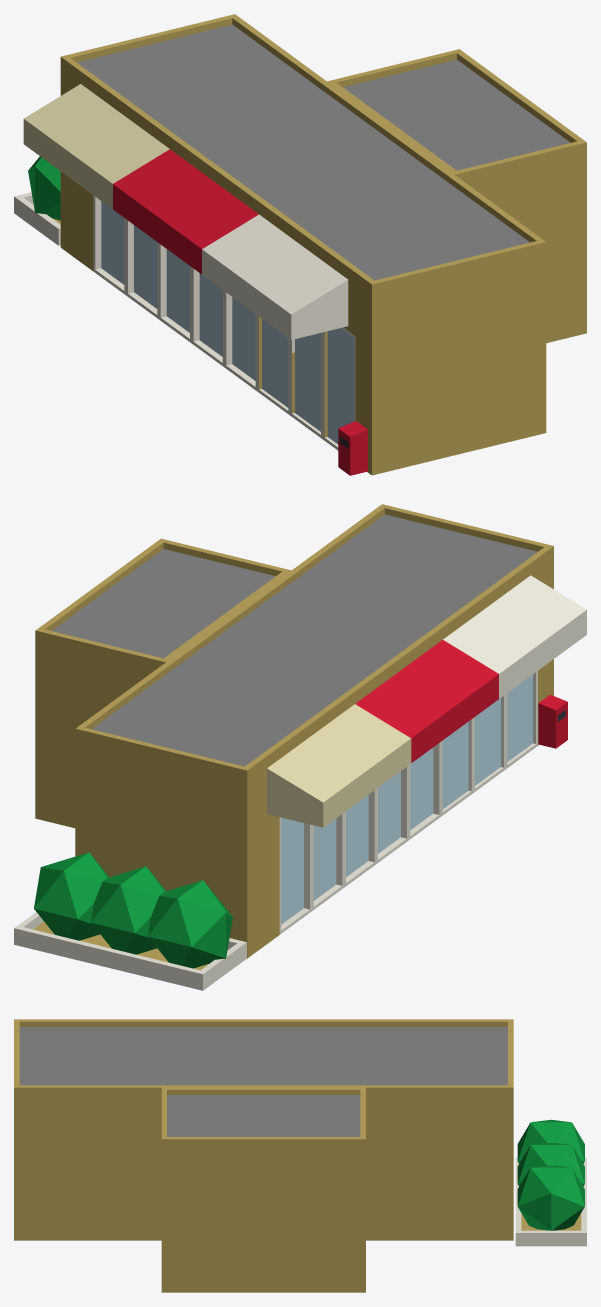
Rendered from 建筑物13.fbx.
3 renders of one model, top to bottom at view 1: azimuth 30°, elevation 25°; view 2: azimuth 150°, elevation 25°; view 3: azimuth 270°, elevation 25°, orthographic. The views are drawn at different scales.
Parts seen in each view (by area): view 1: 桶4_1; view 2: 桶4_1; view 3: 桶4_1.
Boxes of the visible parts, x1,y1,x2,y2 form: 桶4_1: [14, 14, 586, 475]; 桶4_1: [14, 504, 586, 990]; 桶4_1: [14, 1019, 586, 1292].
Bounding box in the file's own units: 1196 × 600 × 2033.
